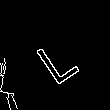L_NW: (28, 25, 82, 85)
